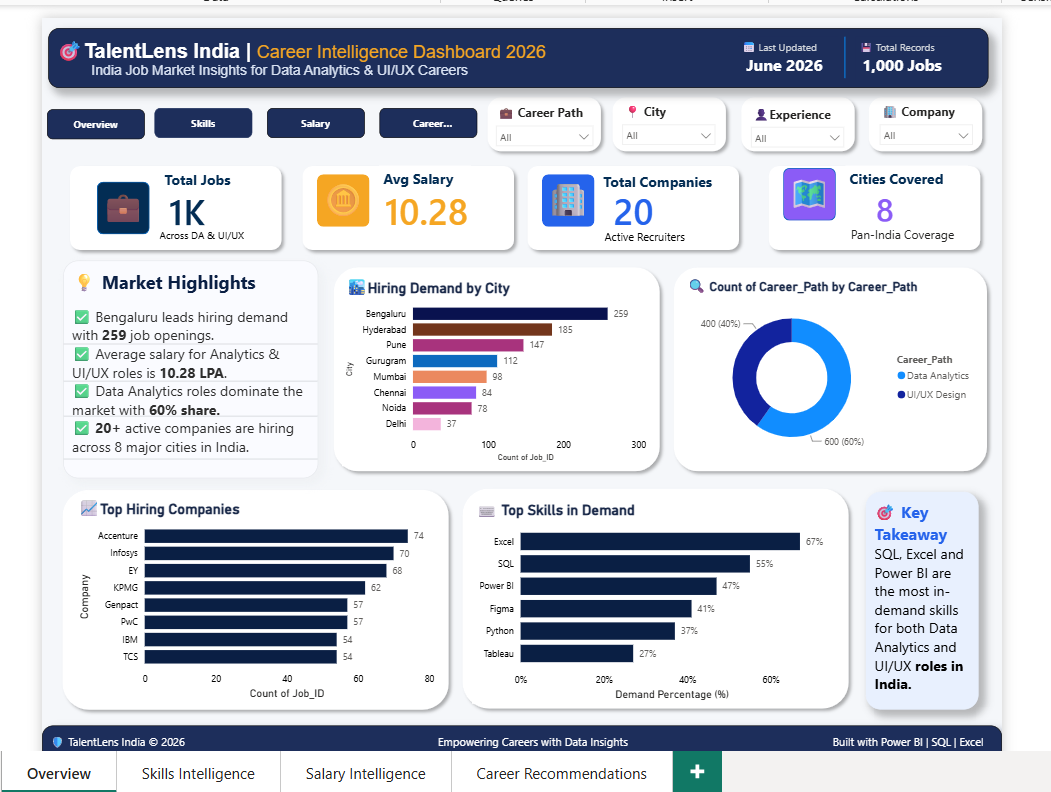

Layout of this report page (visuals, bound fields, positions):
{"tool":"powerbi","page":{"name":"Overview","canvas":[1280,1000],"ordinal":0},"visuals":[{"type":"textbox","box":[7.5,12.5,1253.8,80],"z":0,"group":"g17"},{"type":"actionButton","box":[7.3,121.3,130,40],"z":0},{"type":"shape","box":[959.8,187.7,300,130],"z":0,"group":"g13"},{"type":"shape","box":[28.9,187.8,300,130],"z":0,"group":"g14"},{"type":"shape","box":[337.8,188.1,300,130],"z":0,"group":"g15"},{"type":"shape","box":[637.8,188.1,300,130],"z":0,"group":"g16"},{"type":"actionButton","box":[150,120,130,40],"z":1000},{"type":"shape","box":[987.7,199.4,70,70],"z":1000,"group":"g13"},{"type":"shape","box":[365.4,208,70,70],"z":1000,"group":"g15"},{"type":"shape","box":[665.4,208,70,70],"z":1000,"group":"g16"},{"type":"shape","box":[74.4,217.8,70,70],"z":1000,"group":"g14"},{"type":"actionButton","box":[300,120,130,40],"z":2000},{"type":"group","id":"g1","title":"Group 2","box":[585,96,169,90],"z":3000},{"type":"cardVisual","fields":{"Data":["Count(talentlens_1000.Location)"]},"box":[1095.6,206.9,115.6,90],"z":3000,"group":"g13"},{"type":"cardVisual","fields":{"Data":["talentlens_1000.Total Jobs"]},"box":[140.8,218.2,143.3,75],"z":3000,"group":"g14"},{"type":"cardVisual","fields":{"Data":["talentlens_1000.Avg Salary"]},"box":[439.6,224.4,145.7,58.6],"z":3000,"group":"g15"},{"type":"cardVisual","fields":{"Data":["Count(talentlens_1000.Company)"]},"box":[744.5,225.9,92.7,57.3],"z":3000,"group":"g16"},{"type":"shape","box":[1013.1,24.7,114.3,55.6],"z":4000,"group":"g17"},{"type":"group","id":"g2","title":"Group 3","box":[751.1,95.9,169.2,90],"z":4000},{"type":"textbox","box":[1072,196.8,162.5,41.2],"z":4000,"group":"g13"},{"type":"textbox","box":[449.7,196.9,121.4,40.8],"z":4000,"group":"g15"},{"type":"textbox","box":[159.5,197.9,121.4,40.8],"z":4000,"group":"g14"},{"type":"textbox","box":[743.1,199.2,162,37.3],"z":4000,"group":"g16"},{"type":"textbox","box":[928.2,24.7,132.8,57.8],"z":5000,"group":"g17"},{"type":"group","id":"g3","title":"Group 4","box":[924,96,169,90],"z":5000},{"type":"textbox","box":[1084.9,24.7,125.2,57.8],"z":6000,"group":"g17"},{"type":"group","id":"g4","title":"Group 5","box":[1093,96,169,90],"z":6000},{"type":"group","id":"g5","title":"Group 6","box":[28.9,187.8,300,130],"z":7000},{"type":"group","id":"g6","title":"Group 6","box":[959.8,187.7,300,130],"z":8000},{"type":"group","id":"g7","title":"Group 6","box":[337.8,188.1,300,130],"z":9000},{"type":"group","id":"g8","title":"Group 6","box":[637.8,188.1,300,130],"z":10000},{"type":"group","id":"g9","title":"Group 1","box":[18.8,620,532.5,311.2],"z":11000},{"type":"group","id":"g10","title":"Group 1","box":[551.2,617.5,536.2,312.5],"z":12000},{"type":"shape","box":[585,96,169.2,90],"z":13000,"group":"g1"},{"type":"textbox","box":[1098.8,631.2,150,290],"z":13000},{"type":"slicer","title":"Career Path","fields":{"Values":["talentlens_1000.Career_Path"]},"box":[595.4,109.9,150,65.6],"z":14000,"group":"g1"},{"type":"textbox","box":[28.8,322.5,340,290],"z":14000},{"type":"shape","box":[751.1,95.9,169.2,90],"z":15000,"group":"g2"},{"type":"group","id":"g11","title":"Group 8","box":[380.3,323.1,452.5,290],"z":15000},{"type":"shape","box":[832.8,323.1,435.8,290],"z":15000,"group":"g12"},{"type":"slicer","title":"Career Path","fields":{"Values":["talentlens_1000.Location"]},"box":[763.4,107.8,144.4,65.6],"z":16000,"group":"g2"},{"type":"group","id":"g12","title":"Group 9","box":[832.8,323.1,435,290],"z":16000},{"type":"donutChart","title":"🔍 Count of Career_Path by Career_Path","fields":{"Category":["talentlens_1000.Career_Path"],"Y":["CountNonNull(talentlens_1000.Career_Path)"]},"box":[854.6,343.1,395.8,253.8],"z":16000,"group":"g12"},{"type":"shape","box":[924,96,169.2,90],"z":17000,"group":"g3"},{"type":"shape","box":[380.3,323.1,452.5,290],"z":17000,"group":"g11"},{"type":"shape","box":[28.5,476.2,339.2,15.4],"z":17000},{"type":"textbox","box":[1073.8,270.5,165,32.5],"z":17001,"group":"g13"},{"type":"textbox","box":[743.8,275.9,130.7,30],"z":17001,"group":"g16"},{"type":"slicer","title":"Career Path","fields":{"Values":["talentlens_1000.Experience"]},"box":[936.2,110.8,144.4,65.6],"z":18000,"group":"g3"},{"type":"barChart","title":"🏙️Hiring Demand by City","fields":{"Category":["talentlens_1000.Location"],"Y":["CountNonNull(talentlens_1000.Job_ID)"]},"box":[400.9,343.1,410.5,254.2],"z":18000,"group":"g11"},{"type":"shape","box":[28.7,426.7,339.3,16],"z":18000},{"type":"shape","box":[1093,96,169.2,90],"z":19000,"group":"g4"},{"type":"shape","box":[27.7,523.8,339.2,15.4],"z":19000},{"type":"slicer","title":"Career Path","fields":{"Values":["talentlens_1000.Company"]},"box":[1106.1,107.2,144.4,65.6],"z":20000,"group":"g4"},{"type":"shape","box":[28.5,580.8,339.2,16.2],"z":20000},{"type":"shape","box":[551.2,617.5,532.9,311.4],"z":20000,"group":"g10"},{"type":"shape","box":[18.8,620,532.9,311.4],"z":20000,"group":"g9"},{"type":"barChart","title":"📈Top Hiring Companies","fields":{"Category":["talentlens_1000.Company"],"Y":["CountNonNull(talentlens_1000.Job_ID)"]},"box":[43.6,637.7,485,275],"z":21000,"group":"g9"},{"type":"barChart","title":"⌨️ Top Skills in Demand","fields":{"Category":["SkillDemand.Skill"],"Y":["Sum(SkillDemand.Demand_Percentage)"]},"box":[572.5,639.6,485.5,274.5],"z":21000,"group":"g10"},{"type":"textbox","box":[0,942.5,1280,47.5],"z":21000},{"type":"group","id":"g13","title":"Group 7","box":[959.8,187.7,300,130],"z":21001,"group":"g6"},{"type":"group","id":"g14","title":"Group 7","box":[28.9,187.8,300,130],"z":21001,"group":"g5"},{"type":"group","id":"g15","title":"Group 7","box":[337.8,188.1,300,130],"z":21001,"group":"g7"},{"type":"group","id":"g16","title":"Group 7","box":[637.8,188.1,300,130],"z":21001,"group":"g8"},{"type":"group","id":"g17","title":"Group 10","box":[7.5,12.5,1253.8,80],"z":22000},{"type":"textbox","box":[151.2,275,133.8,33.8],"z":23000},{"type":"actionButton","box":[450,120,130,40],"z":24000}]}

Visuals, with their boxes on the page's 1280x1000 design canvas (x1, y1, x2, y2). These are canvas units, not pixel positions in the 1051x792 screenshot, which may show the page scaled, cropped or inside an application window:
textbox: rect(8, 12, 1261, 92)
actionButton: rect(7, 121, 137, 161)
shape: rect(960, 188, 1260, 318)
shape: rect(29, 188, 329, 318)
shape: rect(338, 188, 638, 318)
shape: rect(638, 188, 938, 318)
actionButton: rect(150, 120, 280, 160)
shape: rect(988, 199, 1058, 269)
shape: rect(365, 208, 435, 278)
shape: rect(665, 208, 735, 278)
shape: rect(74, 218, 144, 288)
actionButton: rect(300, 120, 430, 160)
"Group 2" group: rect(585, 96, 754, 186)
cardVisual - Count(talentlens_1000.Location): rect(1096, 207, 1211, 297)
cardVisual - talentlens_1000.Total Jobs: rect(141, 218, 284, 293)
cardVisual - talentlens_1000.Avg Salary: rect(440, 224, 585, 283)
cardVisual - Count(talentlens_1000.Company): rect(744, 226, 837, 283)
shape: rect(1013, 25, 1127, 80)
"Group 3" group: rect(751, 96, 920, 186)
textbox: rect(1072, 197, 1234, 238)
textbox: rect(450, 197, 571, 238)
textbox: rect(160, 198, 281, 239)
textbox: rect(743, 199, 905, 236)
textbox: rect(928, 25, 1061, 82)
"Group 4" group: rect(924, 96, 1093, 186)
textbox: rect(1085, 25, 1210, 82)
"Group 5" group: rect(1093, 96, 1262, 186)
"Group 6" group: rect(29, 188, 329, 318)
"Group 6" group: rect(960, 188, 1260, 318)
"Group 6" group: rect(338, 188, 638, 318)
"Group 6" group: rect(638, 188, 938, 318)
"Group 1" group: rect(19, 620, 551, 931)
"Group 1" group: rect(551, 618, 1087, 930)
shape: rect(585, 96, 754, 186)
textbox: rect(1099, 631, 1249, 921)
"Career Path" slicer: rect(595, 110, 745, 176)
textbox: rect(29, 322, 369, 612)
shape: rect(751, 96, 920, 186)
"Group 8" group: rect(380, 323, 833, 613)
shape: rect(833, 323, 1269, 613)
"Career Path" slicer: rect(763, 108, 908, 173)
"Group 9" group: rect(833, 323, 1268, 613)
"🔍 Count of Career_Path by Career_Path" donutChart: rect(855, 343, 1250, 597)
shape: rect(924, 96, 1093, 186)
shape: rect(380, 323, 833, 613)
shape: rect(28, 476, 368, 492)
textbox: rect(1074, 270, 1239, 303)
textbox: rect(744, 276, 874, 306)
"Career Path" slicer: rect(936, 111, 1081, 176)
"🏙️Hiring Demand by City" barChart: rect(401, 343, 811, 597)
shape: rect(29, 427, 368, 443)
shape: rect(1093, 96, 1262, 186)
shape: rect(28, 524, 367, 539)
"Career Path" slicer: rect(1106, 107, 1250, 173)
shape: rect(28, 581, 368, 597)
shape: rect(551, 618, 1084, 929)
shape: rect(19, 620, 552, 931)
"📈Top Hiring Companies" barChart: rect(44, 638, 529, 913)
"⌨️ Top Skills in Demand" barChart: rect(572, 640, 1058, 914)
textbox: rect(0, 942, 1280, 990)
"Group 7" group: rect(960, 188, 1260, 318)
"Group 7" group: rect(29, 188, 329, 318)
"Group 7" group: rect(338, 188, 638, 318)
"Group 7" group: rect(638, 188, 938, 318)
"Group 10" group: rect(8, 12, 1261, 92)
textbox: rect(151, 275, 285, 309)
actionButton: rect(450, 120, 580, 160)
